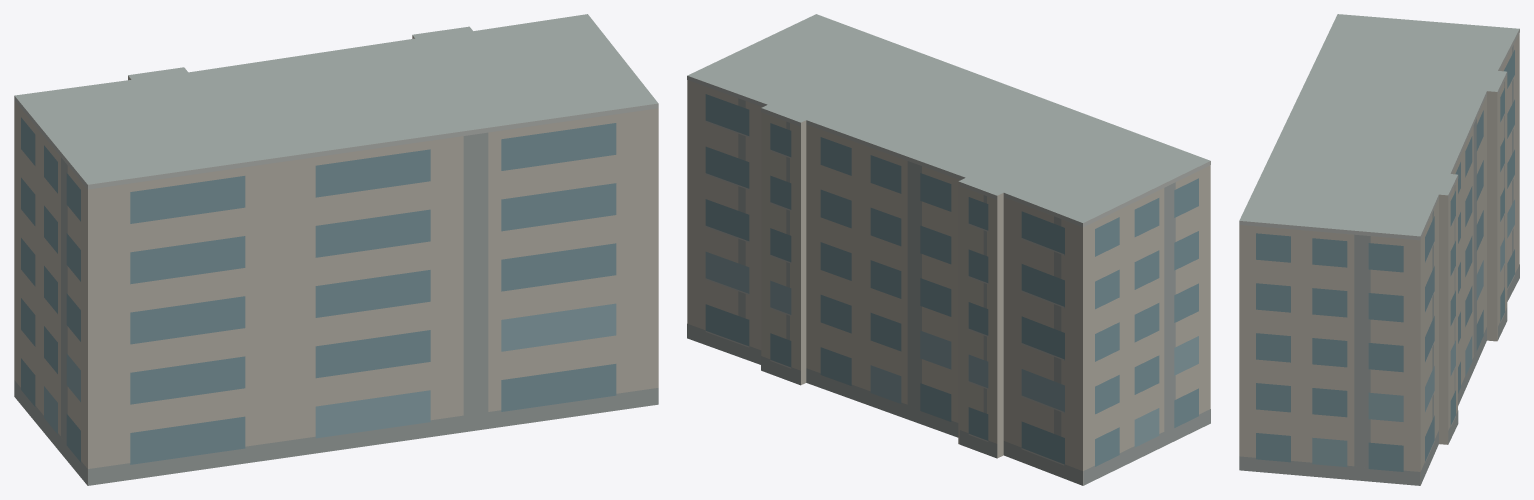
File: survey-upis-32885845.glb
3 renders of one model, left to right at view 1: azimuth 30°, elevation 25°; view 2: azimuth 150°, elevation 25°; view 3: azimuth 270°, elevation 25°, orthographic. The views are drawn at different scales.
Visible parts, largest first — view 1: survey-upis-32885845.tmp; view 2: survey-upis-32885845.tmp; view 3: survey-upis-32885845.tmp.
Part boxes in pixels (x1,y1,x2,y2): survey-upis-32885845.tmp: (14, 14, 658, 485); survey-upis-32885845.tmp: (687, 14, 1210, 485); survey-upis-32885845.tmp: (1239, 14, 1519, 485).
Bounding box in the file's own units: 29.17 × 15.25 × 15.55.
